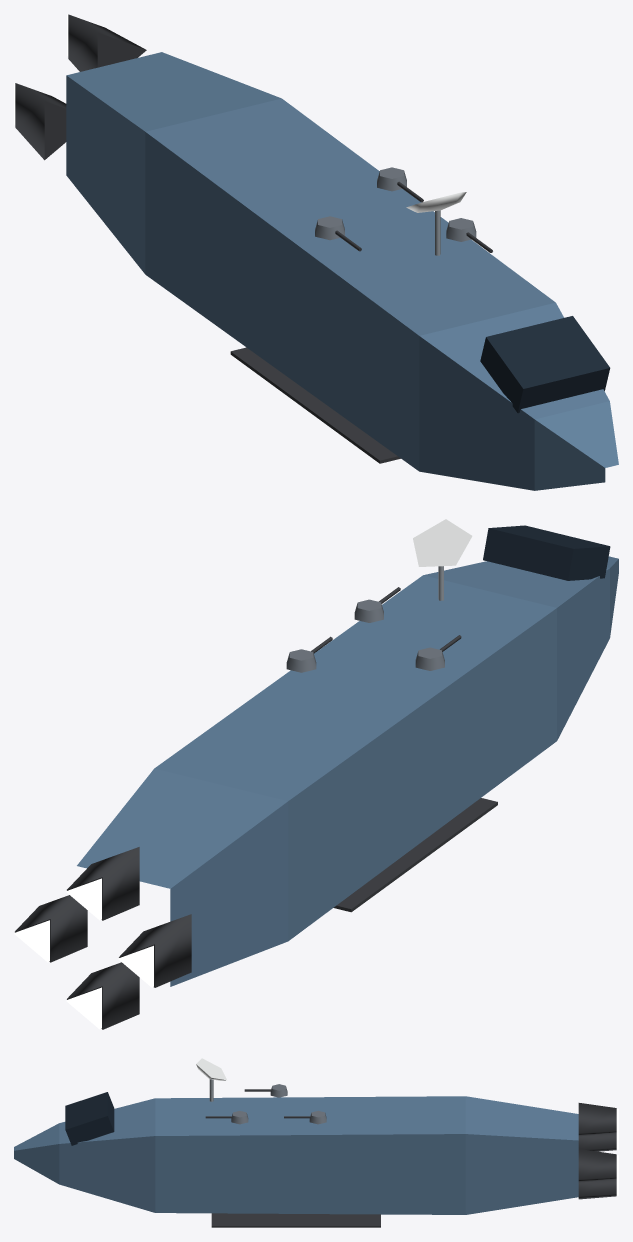
File: space_ship_transport_mk6_lod2.glb
3 renders of one model, top to bottom at view 1: azimuth 30°, elevation 25°; view 2: azimuth 150°, elevation 25°; view 3: azimuth 270°, elevation 25°, orthographic. The views are drawn at different scales.
Parts seen in each view (by area): view 1: body, hangar_door, engine_2, engine_1, antenna_0, turret_0, turret_1, turret_2; view 2: body, engine_1, engine_2, engine_0, engine_3, hangar_door, antenna_0, turret_2, turret_0, turret_1; view 3: body, hangar_door, engine_1, engine_0, engine_3, engine_2, antenna_0, turret_1, turret_2, turret_0.
Part boxes in pixels (x1,y1,x2,y2): body: [66, 52, 618, 490]; hangar_door: [230, 347, 400, 463]; engine_2: [14, 83, 66, 160]; engine_1: [67, 14, 146, 71]; antenna_0: [406, 192, 466, 255]; turret_0: [446, 218, 492, 252]; turret_1: [315, 216, 361, 251]; turret_2: [377, 167, 423, 202]; body: [77, 525, 618, 986]; engine_1: [66, 847, 139, 920]; engine_2: [118, 914, 191, 987]; engine_0: [14, 895, 87, 962]; engine_3: [66, 962, 139, 1029]; hangar_door: [333, 798, 497, 912]; antenna_0: [413, 519, 472, 600]; turret_2: [286, 636, 332, 672]; turret_0: [354, 587, 400, 622]; turret_1: [415, 635, 461, 670]; body: [14, 1092, 578, 1214]; hangar_door: [211, 1213, 380, 1227]; engine_1: [578, 1103, 618, 1136]; engine_0: [578, 1149, 618, 1182]; engine_3: [578, 1179, 618, 1199]; engine_2: [578, 1132, 618, 1151]; antenna_0: [196, 1058, 226, 1101]; turret_1: [244, 1084, 287, 1097]; turret_2: [284, 1110, 326, 1124]; turret_0: [205, 1111, 248, 1124].
Bounding box in the file's own units: 5.19 × 8.46 × 30.85.
